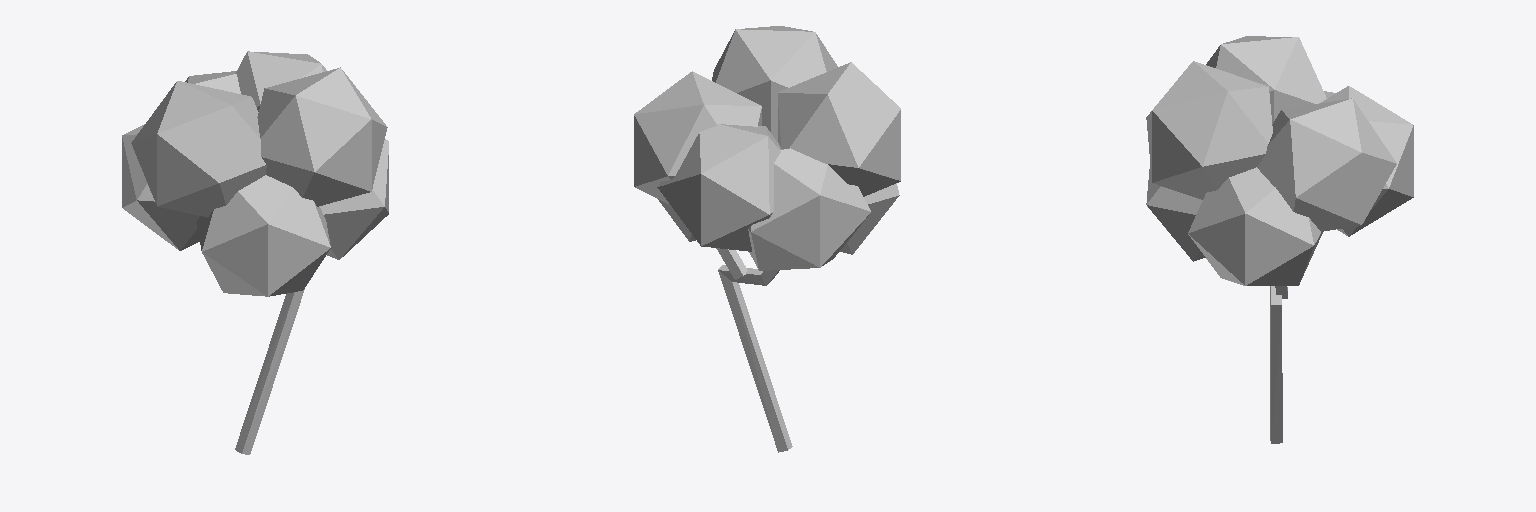
Rendered from map5tree2.obj.
3 renders of one model, left to right at view 1: azimuth 30°, elevation 25°; view 2: azimuth 150°, elevation 25°; view 3: azimuth 270°, elevation 25°, orthographic.
Parts seen in each view (by area): view 1: Arbol1.1; view 2: Arbol1.1; view 3: Arbol1.1.
Boxes of the visible parts, <box> form: Arbol1.1: <box>122,51,388,454</box>; Arbol1.1: <box>634,26,900,452</box>; Arbol1.1: <box>1146,36,1413,443</box>.
Size of the model in its own units: 4202 by 6682 by 4188.